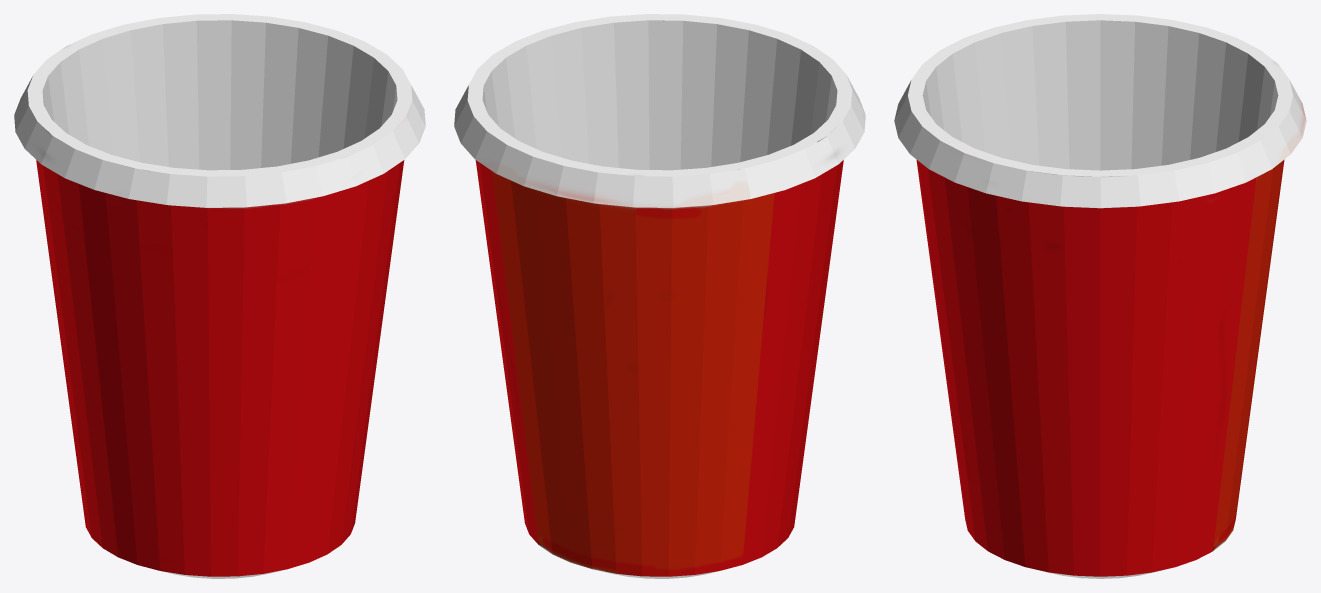
The model's file is BeerPong_Cup.fbx.
3 renders of one model, left to right at view 1: azimuth 30°, elevation 25°; view 2: azimuth 150°, elevation 25°; view 3: azimuth 270°, elevation 25°, orthographic.
Visible parts, largest first — view 1: Cylinder; view 2: Cylinder; view 3: Cylinder.
Part boxes in pixels (x1,y1,x2,y2): Cylinder: (14, 14, 425, 578); Cylinder: (454, 14, 865, 578); Cylinder: (894, 14, 1306, 578).
Size of the model in its own units: 179 by 211 by 179.
